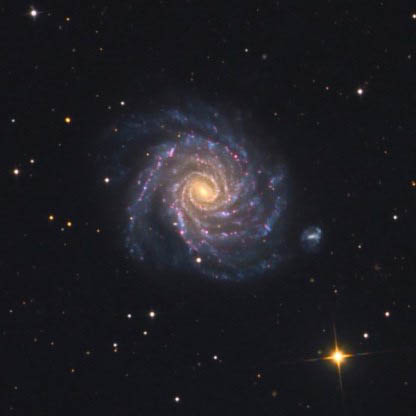NGC 1232: (96, 99, 339, 296)
